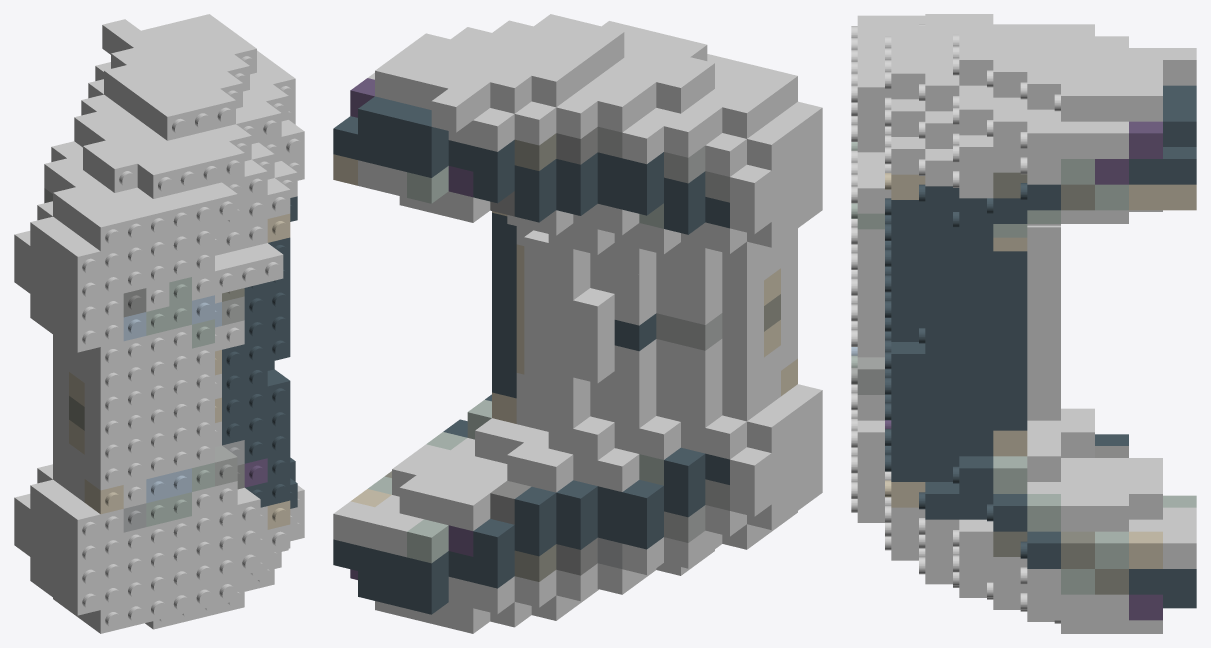
The model's file is full.glb.
3 views of the same model, side by side, from view 1: azimuth 30°, elevation 25°; view 2: azimuth 150°, elevation 25°; view 3: azimuth 270°, elevation 25° (orthographic). The views are drawn at different scales.
Visible parts, largest first — view 1: world; view 2: world; view 3: world.
Boxes of the visible parts, <box> form: world: <box>14,14,304,633</box>; world: <box>333,14,822,633</box>; world: <box>851,14,1196,633</box>.
Size of the model in its own units: 104 by 168 by 97.8.
